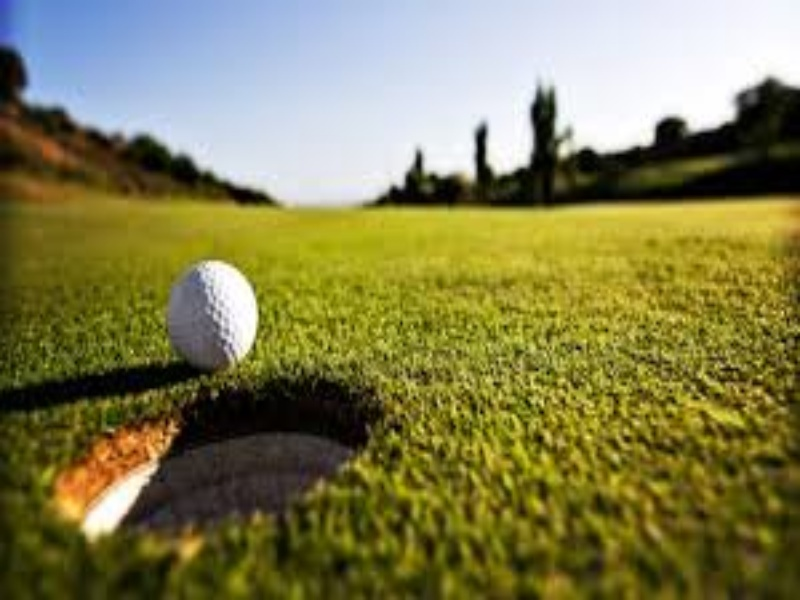golf_ball: (165, 260, 258, 370)
